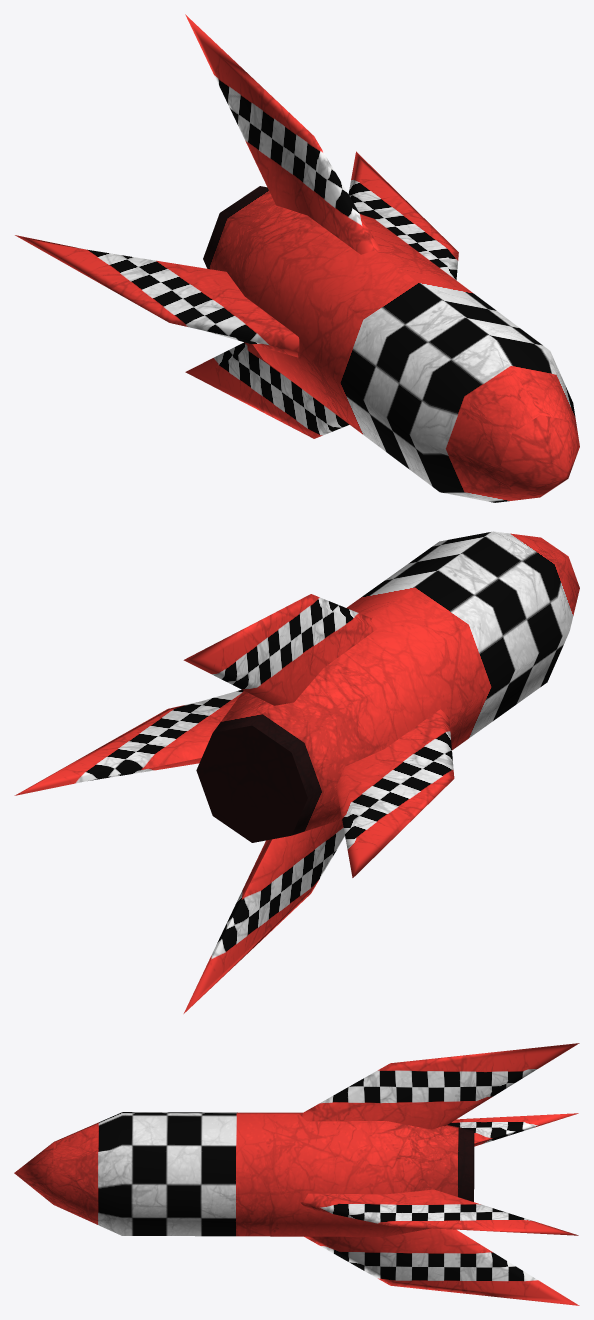
The model's file is ship.glb.
The picture shows the model from 3 angles, top to bottom: view 1: azimuth 30°, elevation 25°; view 2: azimuth 150°, elevation 25°; view 3: azimuth 270°, elevation 25°; orthographic projection. The views are drawn at different scales.
Visible parts, largest first — view 1: chasis, fin; view 2: chasis, fin; view 3: chasis, fin.
Part boxes in pixels (left/top/right/bottom): chasis: left=203, top=186, right=579, bottom=502; fin: left=15, top=14, right=458, bottom=438; chasis: left=196, top=531, right=579, bottom=842; fin: left=14, top=594, right=454, bottom=1013; chasis: left=14, top=1112, right=474, bottom=1236; fin: left=299, top=1043, right=579, bottom=1305.
Size of the model in its own units: 2.2 by 2.2 by 4.29.
Materials: 1 (1 with a texture image).
